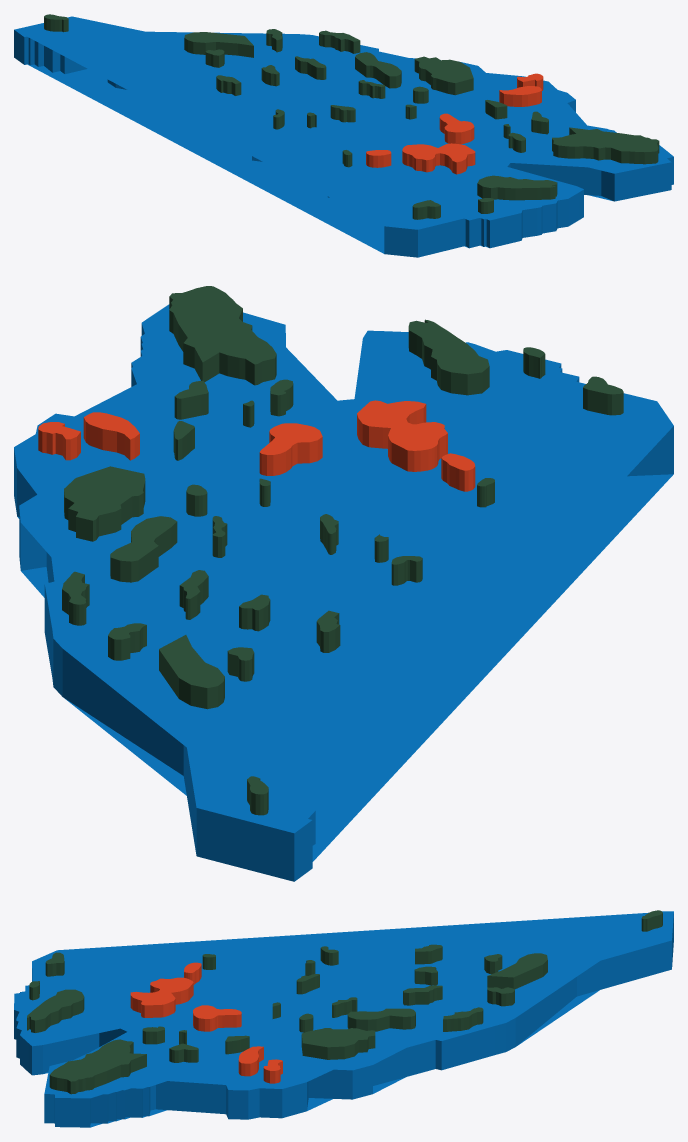
The model's file is MiniMapHuluRokan.fbx.
3 renders of one model, top to bottom at view 1: azimuth 30°, elevation 25°; view 2: azimuth 150°, elevation 25°; view 3: azimuth 270°, elevation 25°, orthographic. The views are drawn at different scales.
Parts seen in each view (by area): view 1: Plane, Plane.030, Plane.022, Plane.029, Plane.016, Plane.002, Plane.009, Plane.020, Plane.021, Plane.008, Plane.006, Plane.023 (+5 smaller); view 2: Plane, Plane.030, Plane.022, Plane.016, Plane.029, Plane.002, Plane.009, Plane.020, Plane.021, Plane.017, Plane.023, Plane.008 (+6 smaller); view 3: Plane, Plane.030, Plane.016, Plane.022, Plane.029, Plane.002, Plane.009, Plane.020, Plane.008, Plane.006, Plane.021, Plane.024 (+10 smaller).
Part boxes in pixels (x1,y1,x2,y2): Plane: (14,16,673,257); Plane.030: (552,127,659,164); Plane.022: (402,143,475,174); Plane.029: (477,175,557,200); Plane.016: (414,56,473,95); Plane.002: (184,32,253,57); Plane.009: (355,52,401,88); Plane.020: (439,113,474,144); Plane.021: (499,86,541,106); Plane.008: (319,30,360,53); Plane.006: (295,56,326,79); Plane.023: (412,200,440,219); Plane: (14,304,673,881); Plane.030: (169,286,276,385); Plane.022: (357,400,447,471); Plane.016: (64,466,145,541); Plane.029: (408,319,489,395); Plane.002: (159,635,224,709); Plane.009: (110,516,177,582); Plane.020: (259,423,322,475); Plane.021: (83,412,139,460); Plane.017: (38,422,80,460); Plane.023: (583,376,623,415); Plane.008: (62,571,89,625); Plane: (14,911,673,1127); Plane.030: (49,1039,146,1094); Plane.016: (301,1028,375,1059); Plane.022: (130,977,193,1017); Plane.029: (27,989,84,1032); Plane.002: (487,953,547,989); Plane.009: (347,1008,415,1031); Plane.020: (193,1005,241,1031); Plane.008: (443,1007,483,1031); Plane.006: (403,985,442,1005); Plane.021: (238,1046,263,1076); Plane.024: (169,1043,198,1062).
Size of the model in its own units: 637 by 66.3 by 948.
